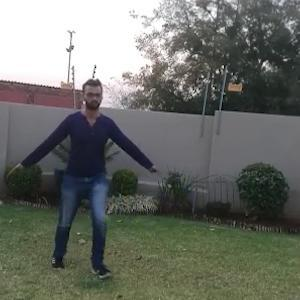land: (29, 92, 141, 246)
